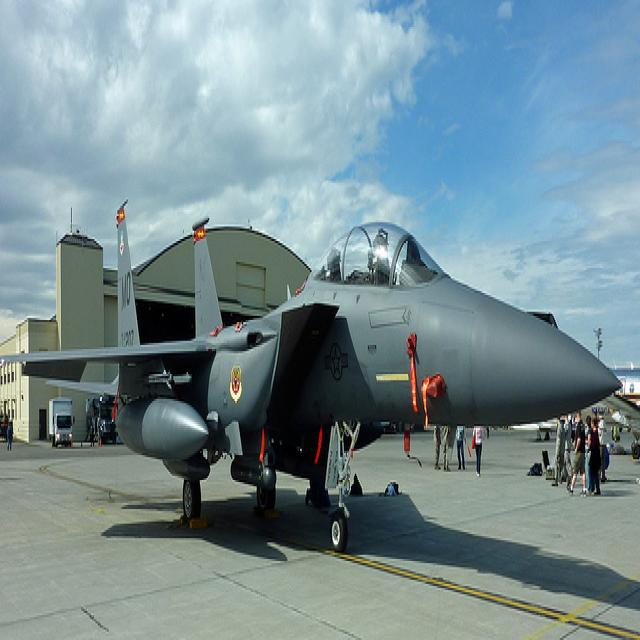Vehicle: (48, 398, 73, 448), (92, 398, 116, 443)
